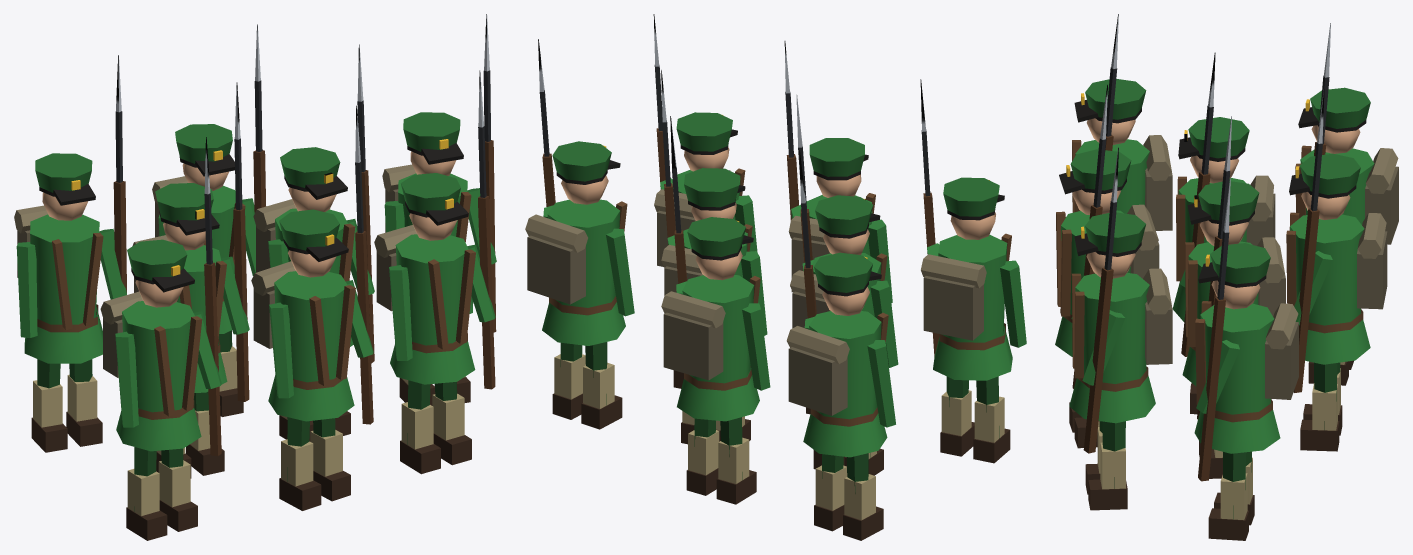
Rendered from squad_dl5_green.glb.
The picture shows the model from 3 angles, left to right: view 1: azimuth 30°, elevation 25°; view 2: azimuth 150°, elevation 25°; view 3: azimuth 270°, elevation 25°; orthographic projection. The views are drawn at different scales.
Visible parts, largest first — view 1: squad_dl5_green; view 2: squad_dl5_green; view 3: squad_dl5_green.
Boxes of the visible parts, x1,y1,x2,y2 form: squad_dl5_green: [14, 14, 496, 540]; squad_dl5_green: [525, 14, 1026, 540]; squad_dl5_green: [1055, 14, 1398, 540].
Bounding box in the file's own units: 0.6341 × 0.5225 × 0.436.
Materials: 1 (1 with a texture image).
